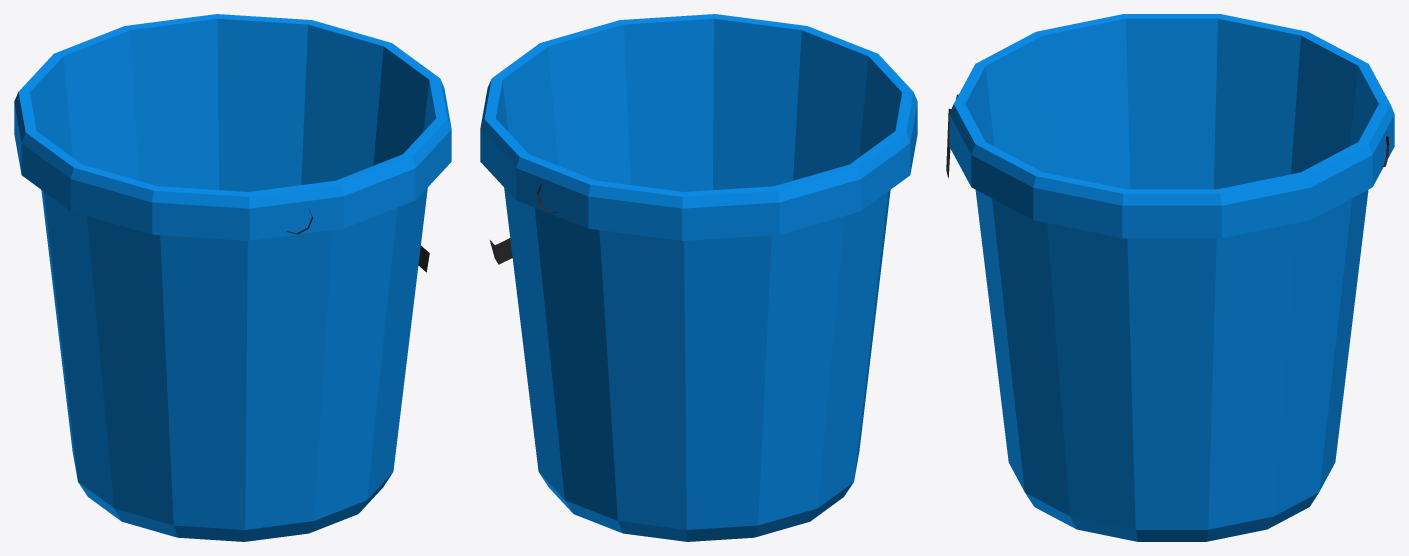
Rendered from Bucket_0.3.fbx.
The picture shows the model from 3 angles, left to right: view 1: azimuth 30°, elevation 25°; view 2: azimuth 150°, elevation 25°; view 3: azimuth 270°, elevation 25°; orthographic projection.
Parts seen in each view (by area): view 1: BUCKET; view 2: BUCKET; view 3: BUCKET.
Part boxes in pixels (x1=…): BUCKET: x1=14, y1=14, x2=451, y2=541; BUCKET: x1=480, y1=14, x2=917, y2=541; BUCKET: x1=946, y1=14, x2=1394, y2=541.
Size of the model in its own units: 43.59 by 45.02 by 41.55.
